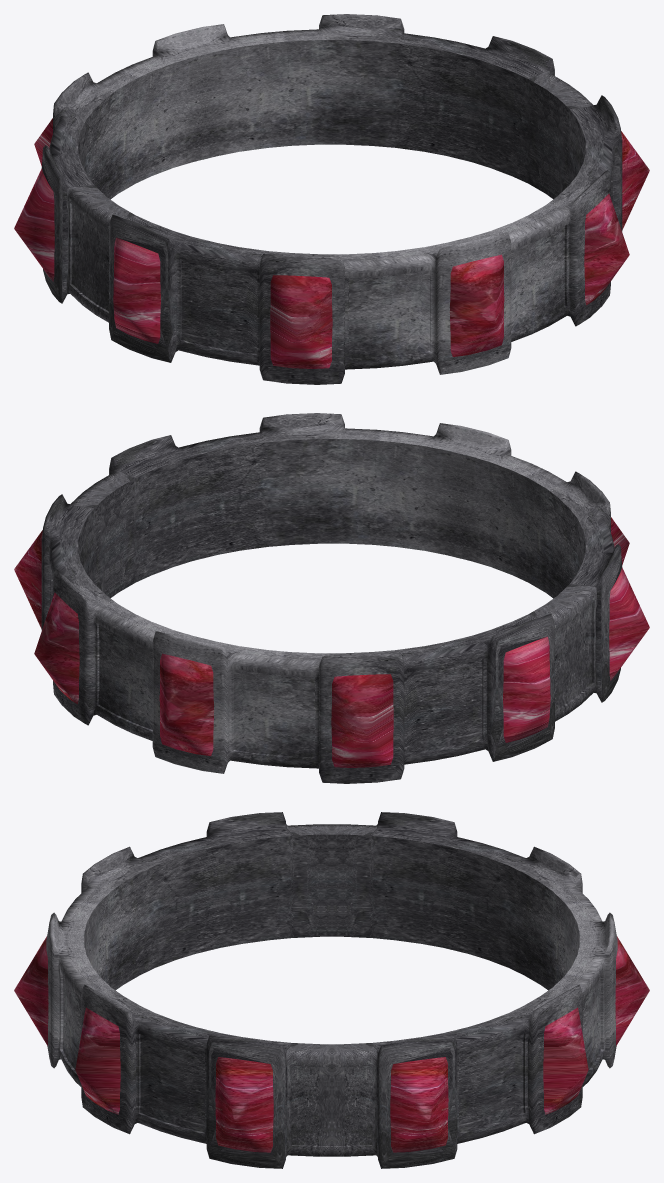
The model's file is Aegon's Crown.FBX.
The picture shows the model from 3 angles, top to bottom: view 1: azimuth 30°, elevation 25°; view 2: azimuth 150°, elevation 25°; view 3: azimuth 270°, elevation 25°; orthographic projection. The views are drawn at different scales.
Parts seen in each view (by area): view 1: Aegon's Crown; view 2: Aegon's Crown; view 3: Aegon's Crown.
Boxes of the visible parts, left/top/right/bottom form: Aegon's Crown: left=14, top=14, right=649, bottom=384; Aegon's Crown: left=14, top=413, right=649, bottom=783; Aegon's Crown: left=14, top=812, right=649, bottom=1168.
Size of the model in its own units: 1599 by 367 by 1679.
2 materials, 2 textured.
